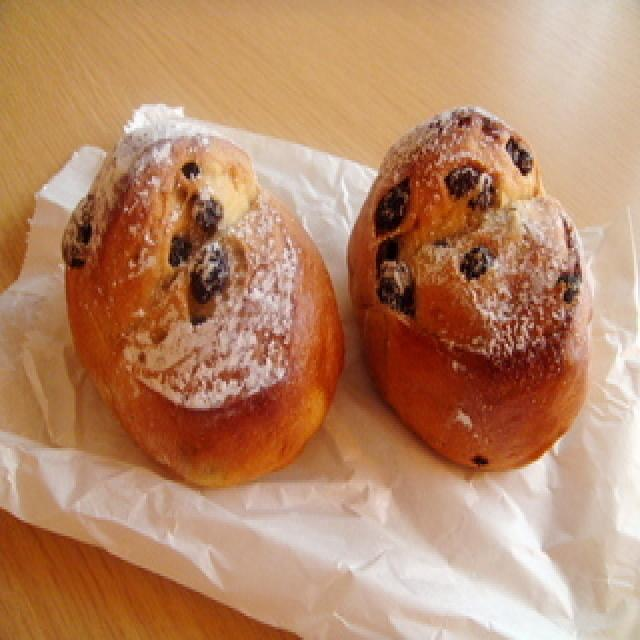面包点心: (64, 112, 608, 480)
